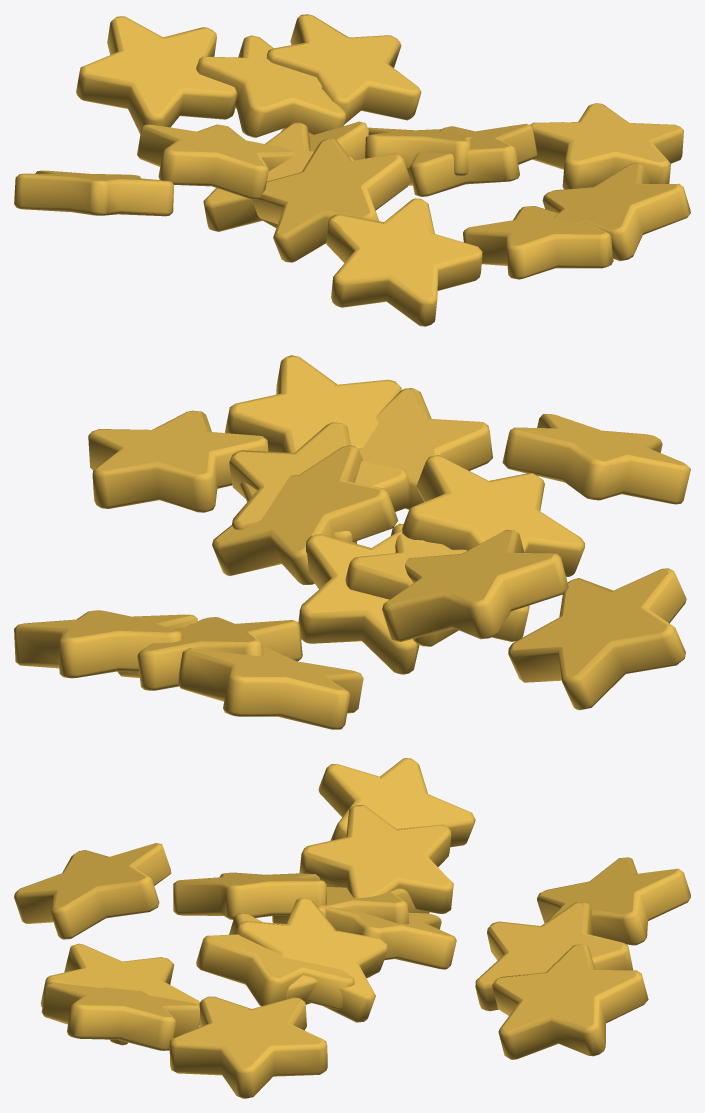
File: goldsterne.glb
3 renders of one model, top to bottom at view 1: azimuth 30°, elevation 25°; view 2: azimuth 150°, elevation 25°; view 3: azimuth 270°, elevation 25°, orthographic. The views are drawn at different scales.
Parts seen in each view (by area): view 1: p0, p2, p13, p4, p12, p7, p1, p5, p10, p9, p3, p8 (+2 smaller); view 2: p9, p1, p6, p12, p13, p0, p2, p5, p11, p4, p10, p3 (+2 smaller); view 3: p4, p12, p1, p0, p6, p5, p2, p9, p7, p3, p13, p10 (+2 smaller).
Boxes of the visible parts, x1,y1,x2,y2 form: p0: (326, 198, 482, 326); p2: (76, 16, 237, 134); p13: (252, 138, 410, 262); p4: (266, 14, 421, 124); p12: (530, 103, 683, 189); p7: (196, 35, 346, 137); p1: (137, 124, 295, 199); p5: (542, 163, 690, 261); p10: (463, 206, 613, 279); p9: (14, 170, 173, 216); p3: (408, 123, 537, 196); p8: (203, 122, 353, 231); p9: (508, 568, 686, 710); p1: (382, 529, 568, 641); p6: (212, 445, 398, 584); p12: (88, 410, 268, 512); p13: (402, 455, 584, 576); p0: (502, 414, 690, 504); p2: (177, 646, 363, 729); p5: (225, 355, 401, 452); p11: (298, 529, 425, 674); p4: (14, 610, 197, 678); p10: (358, 388, 492, 509); p3: (229, 422, 411, 543); p4: (492, 944, 648, 1059); p12: (169, 996, 327, 1098); p1: (299, 805, 453, 913); p0: (14, 843, 171, 939); p6: (235, 898, 387, 1022); p5: (41, 982, 199, 1050); p2: (537, 857, 690, 945); p9: (318, 758, 475, 847); p7: (475, 902, 633, 1011); p3: (196, 913, 354, 1009); p13: (173, 872, 326, 919); p10: (40, 943, 199, 1045).
Bounding box in the file's own units: 0.0348 × 0.00576 × 0.035.
